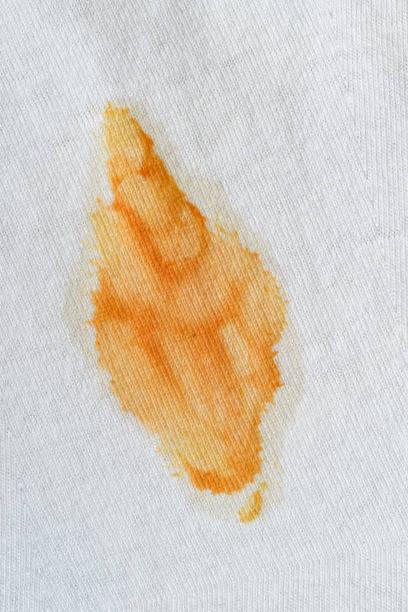stain: (72, 79, 299, 531)
